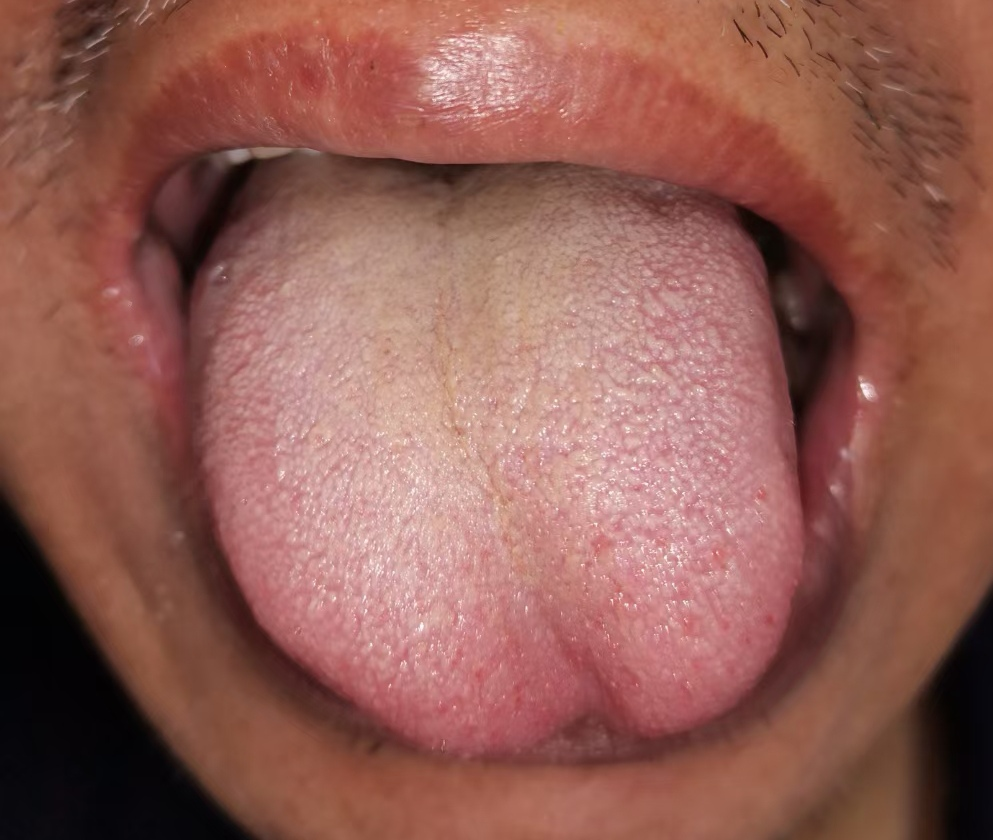hongdianshe: (752, 483, 770, 502)
hongshe: (191, 140, 805, 757)
huangtaishe: (191, 140, 805, 757)
